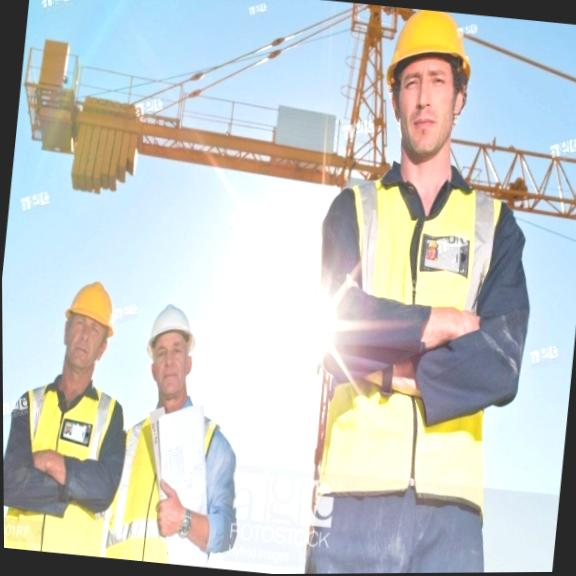safety_vest: (291, 147, 548, 511), (100, 392, 249, 570), (3, 368, 132, 558)
